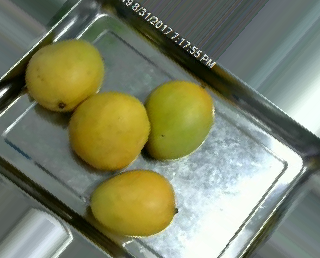Mango: (69, 92, 149, 171), (22, 38, 104, 111), (145, 80, 215, 160), (90, 169, 173, 236)
